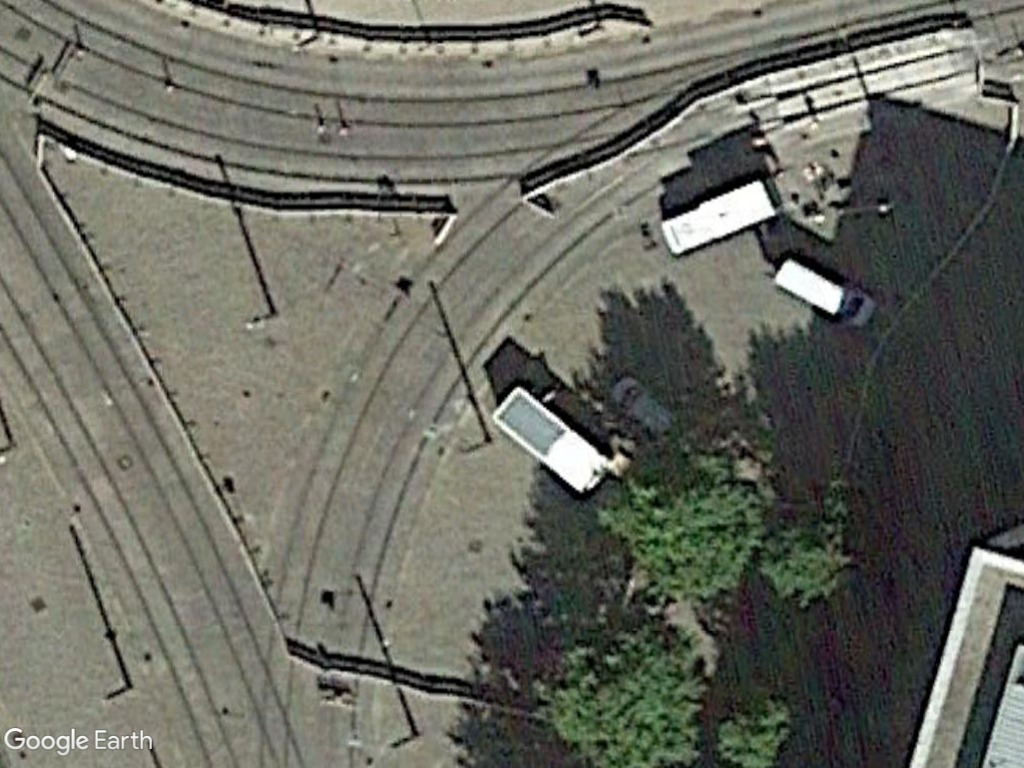bus: (474, 372, 615, 504)
truck: (759, 248, 887, 338)
